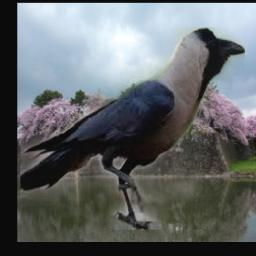Crow: (21, 28, 246, 231)
